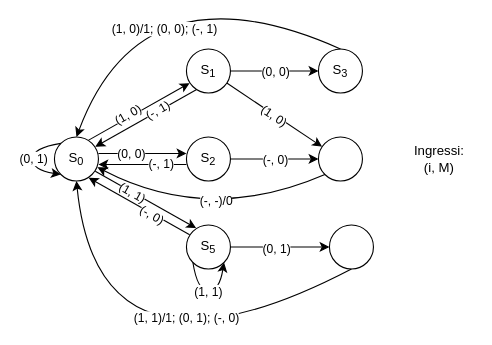
The diagram is 492 pixels wide and 345 high, and some of its shapes have lost their labels. The centre of each missing label's shape, as x and y in pixels:
"S 4" belongs at point 339,158.
"S 6" belongs at point 350,246.
